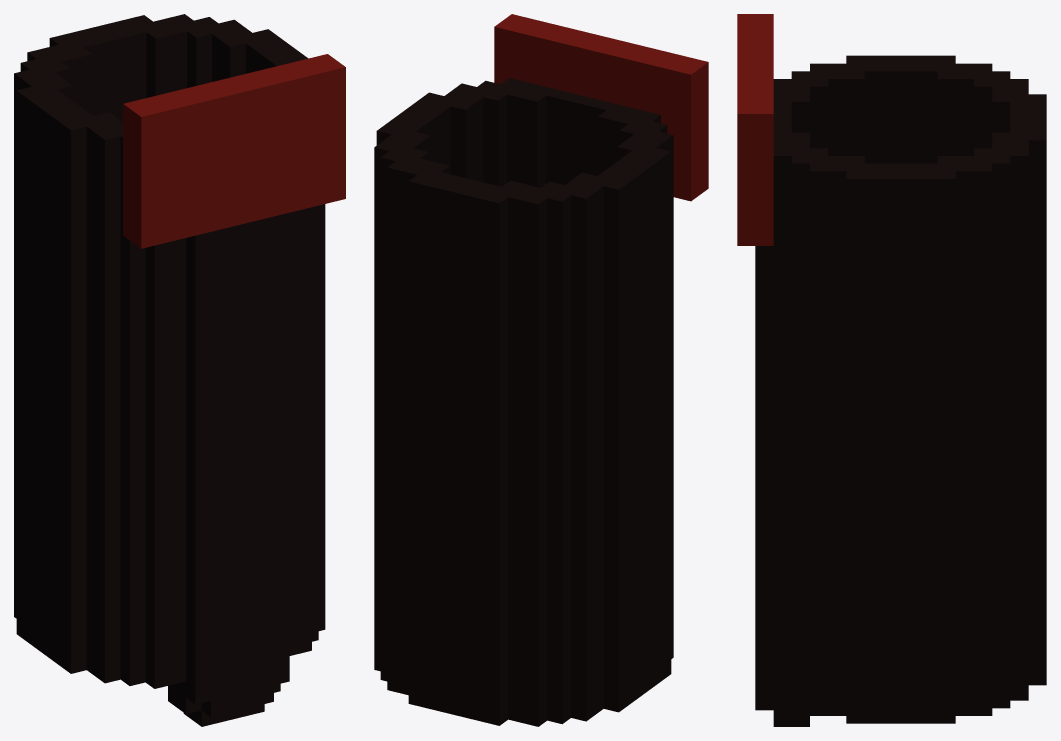
Rendered from leather_masterwork_leg_L.glb.
The picture shows the model from 3 angles, left to right: view 1: azimuth 30°, elevation 25°; view 2: azimuth 150°, elevation 25°; view 3: azimuth 270°, elevation 25°; orthographic projection. The views are drawn at different scales.
Visible parts, largest first — view 1: leather_masterwork_leg_L; view 2: leather_masterwork_leg_L; view 3: leather_masterwork_leg_L.
Part boxes in pixels (left/top/right/bottom): leather_masterwork_leg_L: left=14, top=14, right=345, bottom=726; leather_masterwork_leg_L: left=374, top=14, right=708, bottom=726; leather_masterwork_leg_L: left=737, top=14, right=1046, bottom=726.
Bounding box in the file's own units: 0.192 × 0.468 × 0.204.
